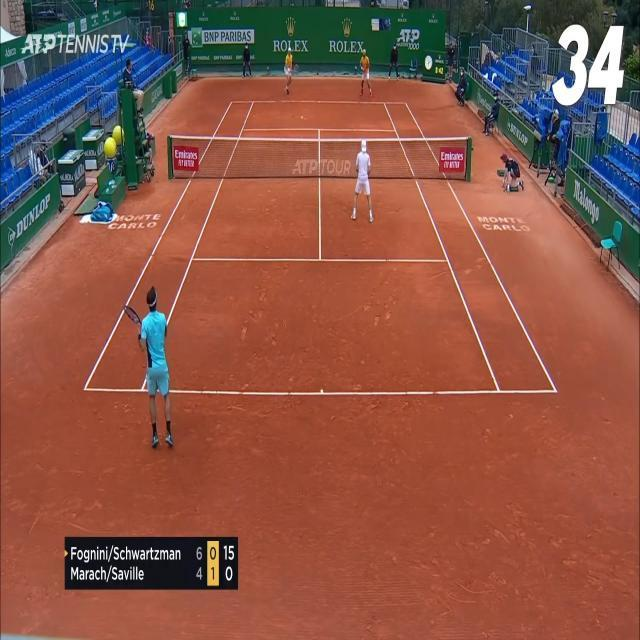court: (83, 100, 558, 393)
net: (166, 134, 472, 182)
player: (123, 285, 174, 450), (350, 139, 374, 224)
